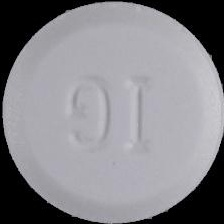33261-437: (0, 0, 224, 224)
